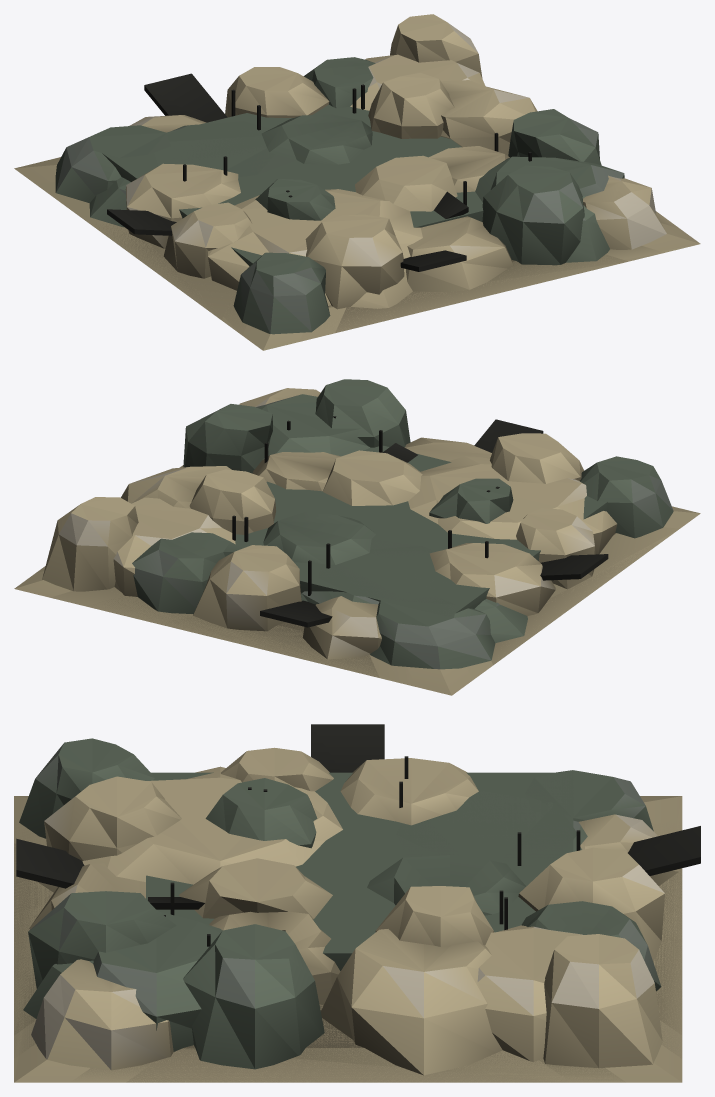
The model's file is neutral_rubble_2x2.glb.
3 views of the same model, one above another, from view 1: azimuth 30°, elevation 25°; view 2: azimuth 150°, elevation 25°; view 3: azimuth 270°, elevation 25° (orthographic). The views are drawn at different scales.
Visible parts, largest first — view 1: body (×3); view 2: body (×3); view 3: body (×3).
Boxes of the visible parts, <box> form: body (×3): <box>14,14,700,350</box>; body (×3): <box>14,379,700,695</box>; body (×3): <box>14,724,700,1082</box>.
Bounding box in the file's own units: 5.75 × 0.885 × 5.59.
